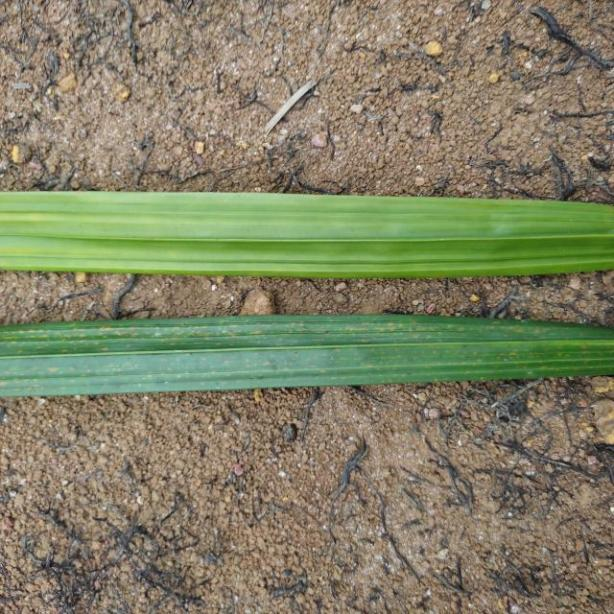nitrogen: (0, 312, 614, 400), (0, 184, 612, 272)
